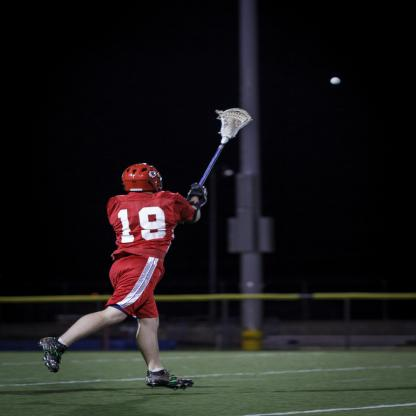Helmet: (115, 164, 164, 194)
